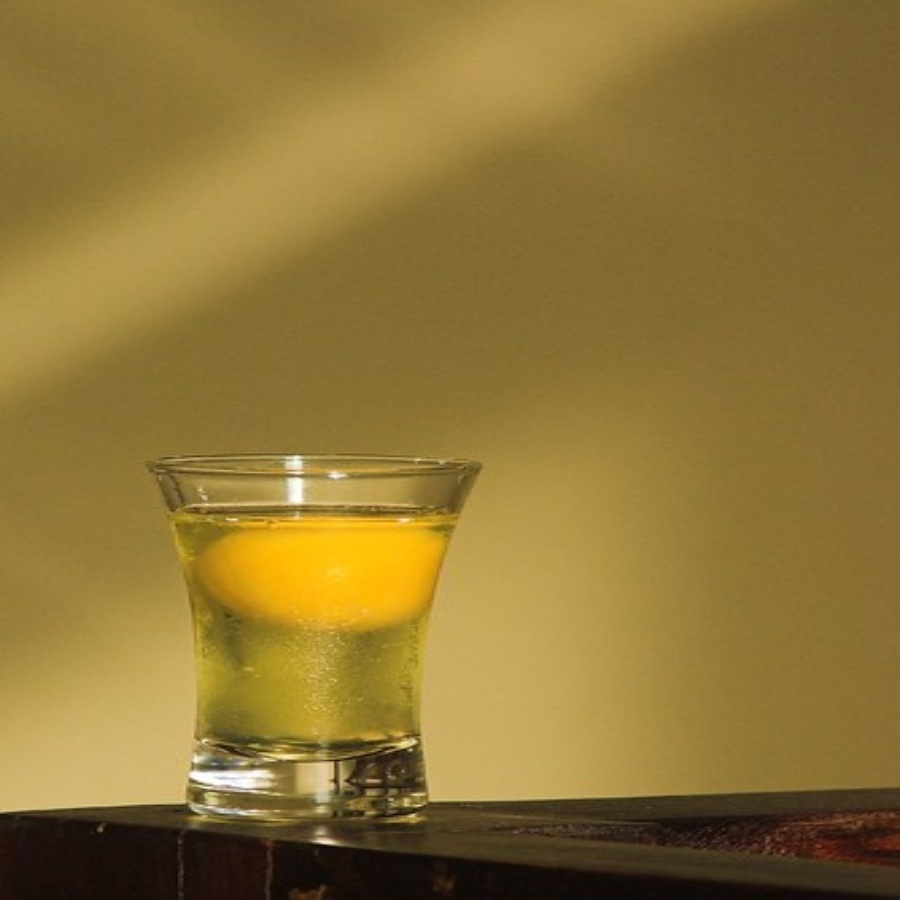whiskey: (170, 446, 483, 828)
